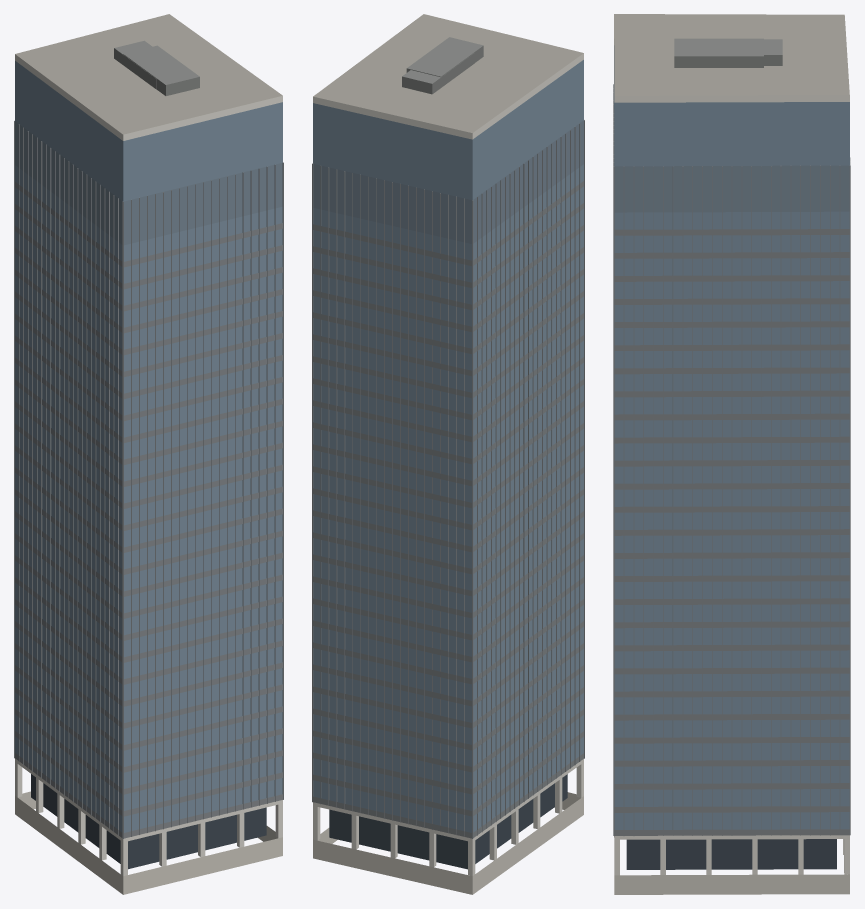
The model's file is first-commercial-building.glb.
3 views of the same model, side by side, from view 1: azimuth 30°, elevation 25°; view 2: azimuth 150°, elevation 25°; view 3: azimuth 270°, elevation 25° (orthographic). The views are drawn at different scales.
Parts seen in each view (by area): view 1: first_commercial_building; view 2: first_commercial_building; view 3: first_commercial_building.
Part boxes in pixels (left/top/right/bottom): first_commercial_building: left=14, top=14, right=283, bottom=894; first_commercial_building: left=312, top=14, right=584, bottom=894; first_commercial_building: left=613, top=14, right=850, bottom=894.
Bounding box in the file's own units: 31.51 × 144 × 38.22.
